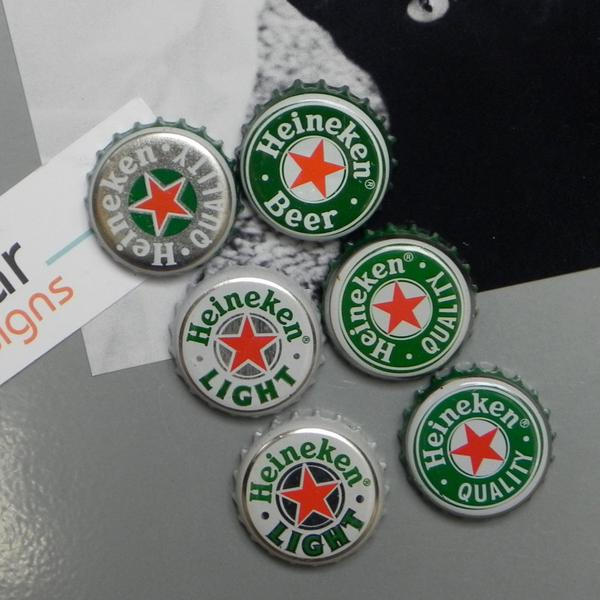heineken: (78, 116, 239, 284), (232, 80, 393, 247), (168, 269, 322, 422), (234, 423, 389, 571), (403, 372, 550, 518), (330, 233, 465, 380)
